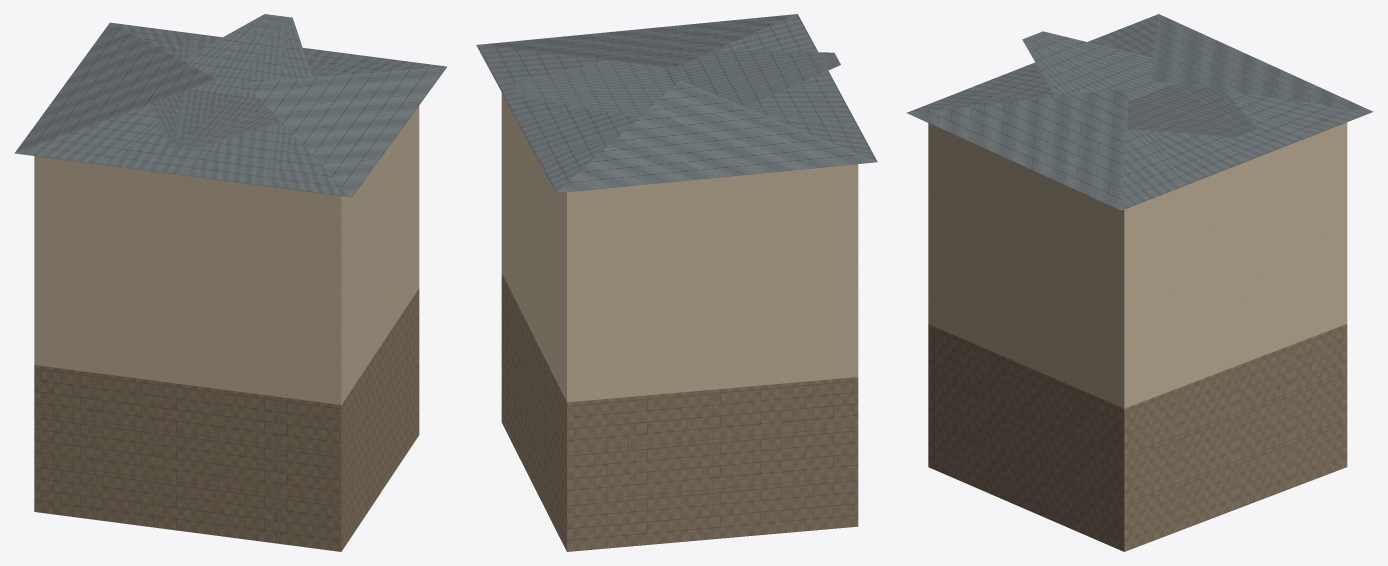
Rendered from bld_c22_24_478.gltf.
The picture shows the model from 3 angles, left to right: view 1: azimuth 30°, elevation 25°; view 2: azimuth 150°, elevation 25°; view 3: azimuth 270°, elevation 25°; orthographic projection. The views are drawn at different scales.
Visible parts, largest first — view 1: bld_c22_24_478; view 2: bld_c22_24_478; view 3: bld_c22_24_478.
Part boxes in pixels (<box>): bld_c22_24_478: <box>15,14,446,551</box>; bld_c22_24_478: <box>476,14,877,551</box>; bld_c22_24_478: <box>907,14,1373,551</box>.
Bounding box in the file's own units: 15.03 × 13.6 × 15.08.
3 materials, 3 textured.
